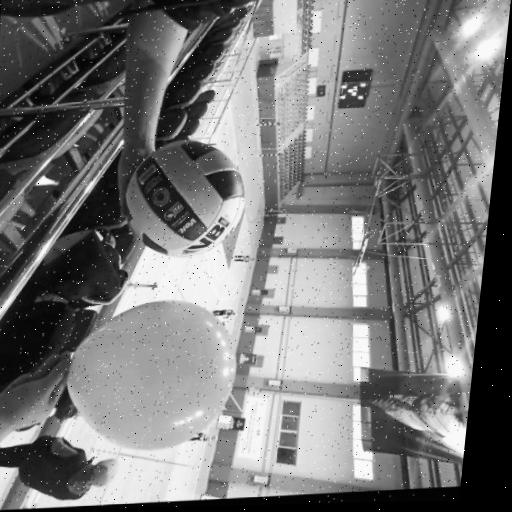balloon: (52, 299, 243, 457)
